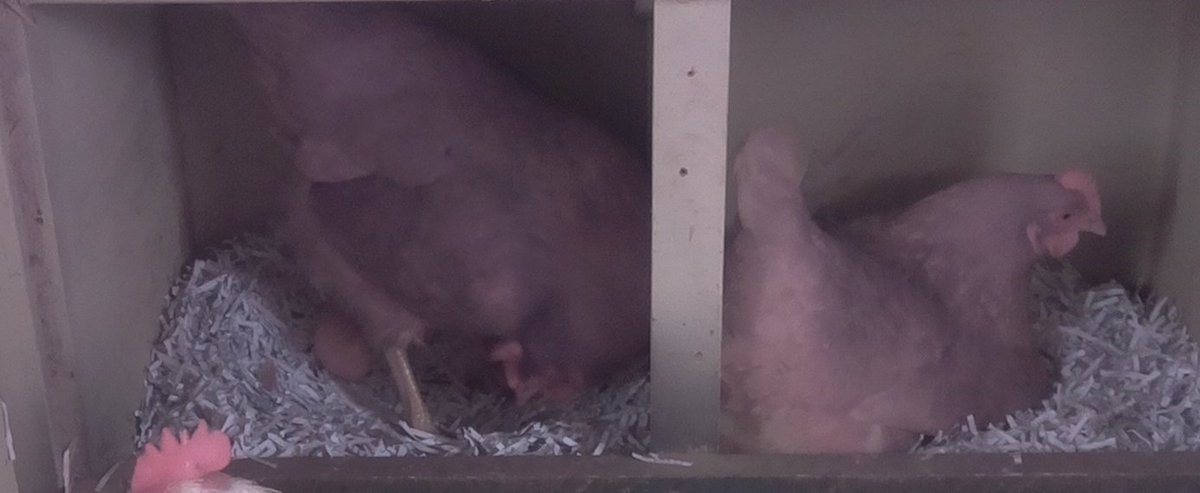egg: (303, 311, 376, 386)
hen: (272, 10, 647, 386), (726, 162, 1114, 448), (101, 417, 295, 493)
